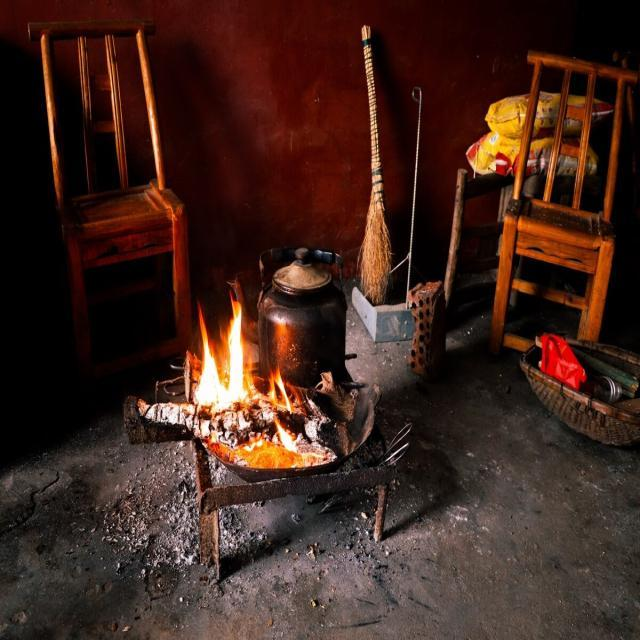Fire: (192, 284, 246, 408), (264, 363, 292, 411), (272, 412, 298, 452)
